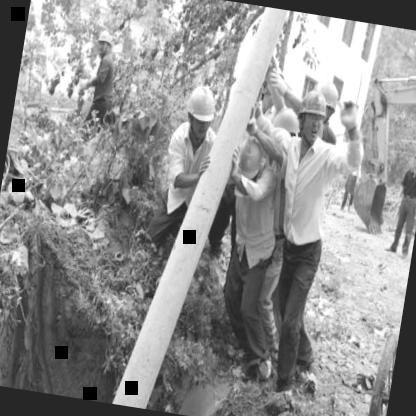helmet: (180, 80, 221, 144), (295, 81, 333, 144), (230, 134, 270, 190), (316, 80, 342, 126), (94, 23, 115, 55), (408, 144, 416, 171)
